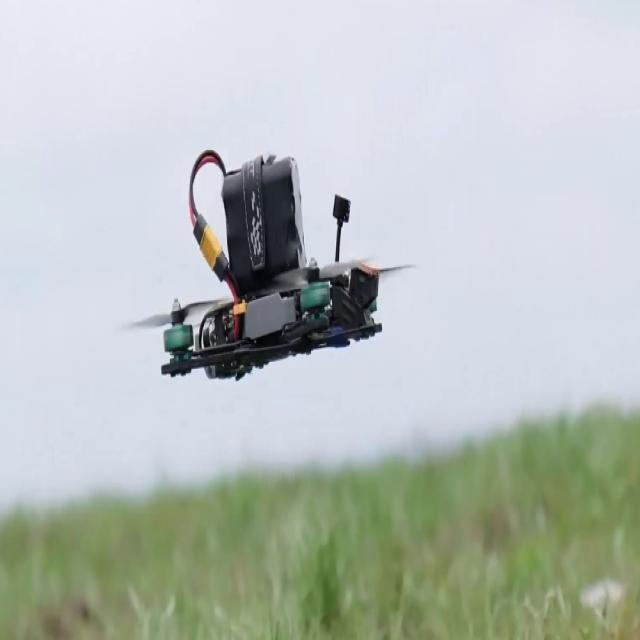drone: (123, 146, 415, 400)
